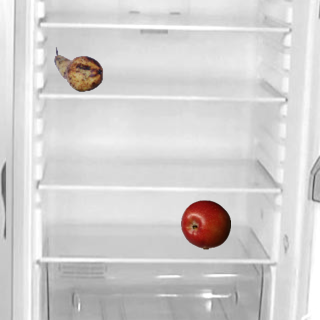Apple Braeburn: (180, 199, 230, 249)
Pear Abate: (53, 44, 103, 94)
